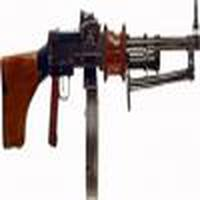gun: (1, 22, 200, 148)
